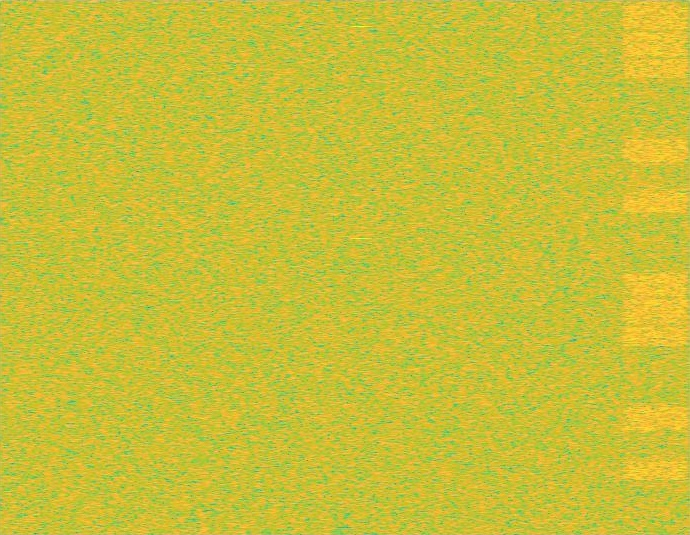LTE: (621, 0, 689, 534)
Radar: (354, 0, 368, 534)
